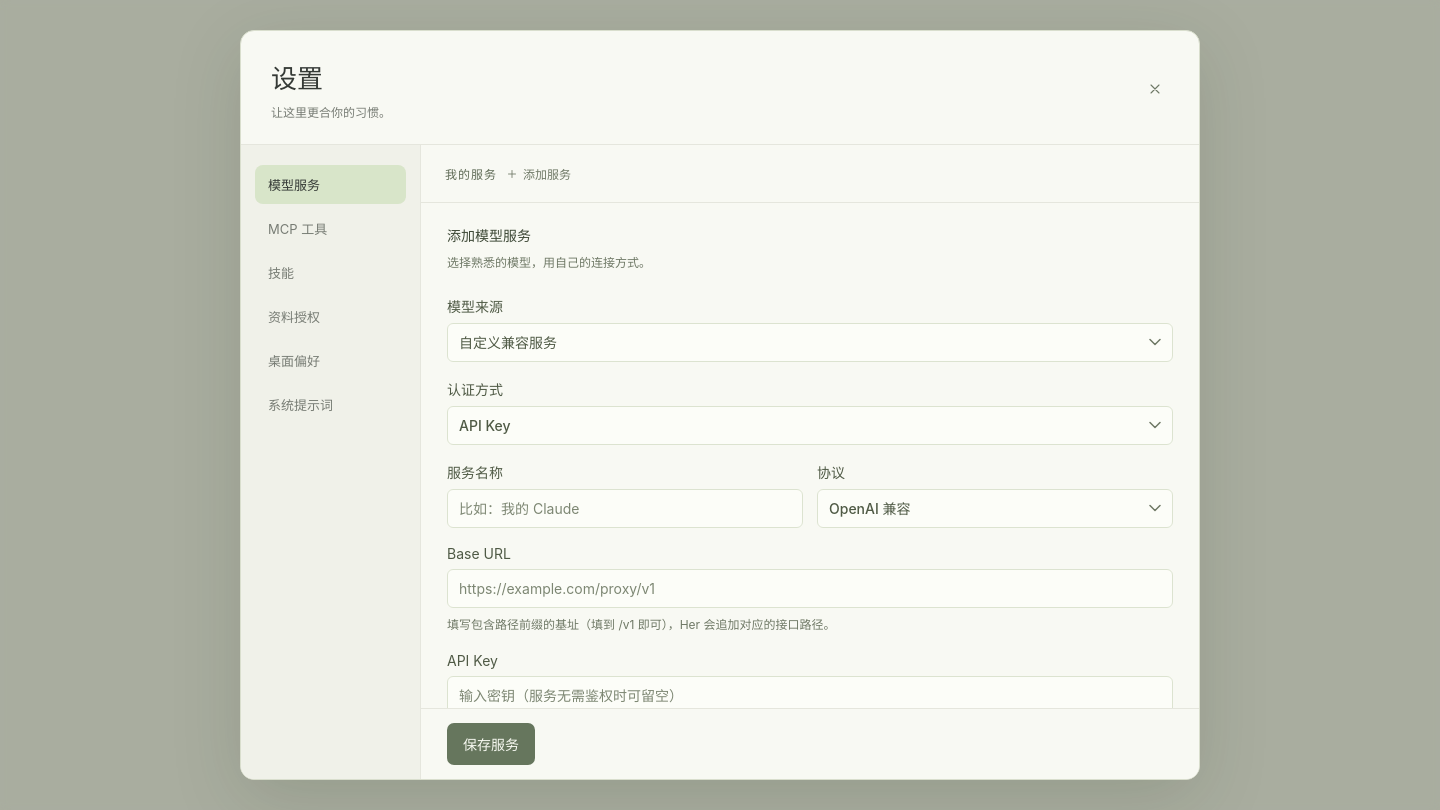
Test: shows actual request metadata separately from the editable draft
Click the tab "系统提示词" at [330, 404], box [255,385,406,424]
(page scrolled)
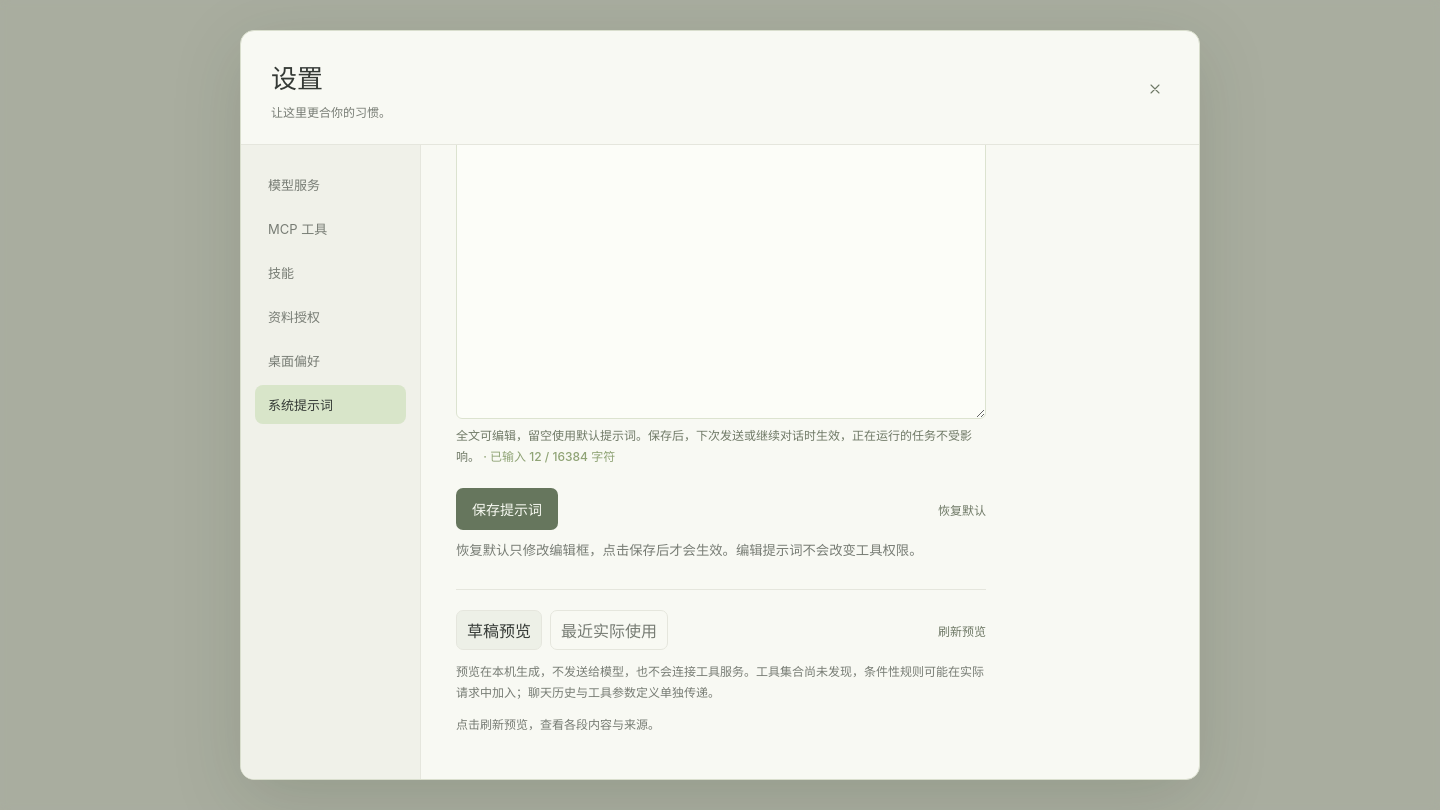
Now the text box named "系统提示词" holds "SAVED CUSTOM", box [456,145,986,419]
Click the tab "最近实际使用" at [609, 630], box [550,610,668,650]
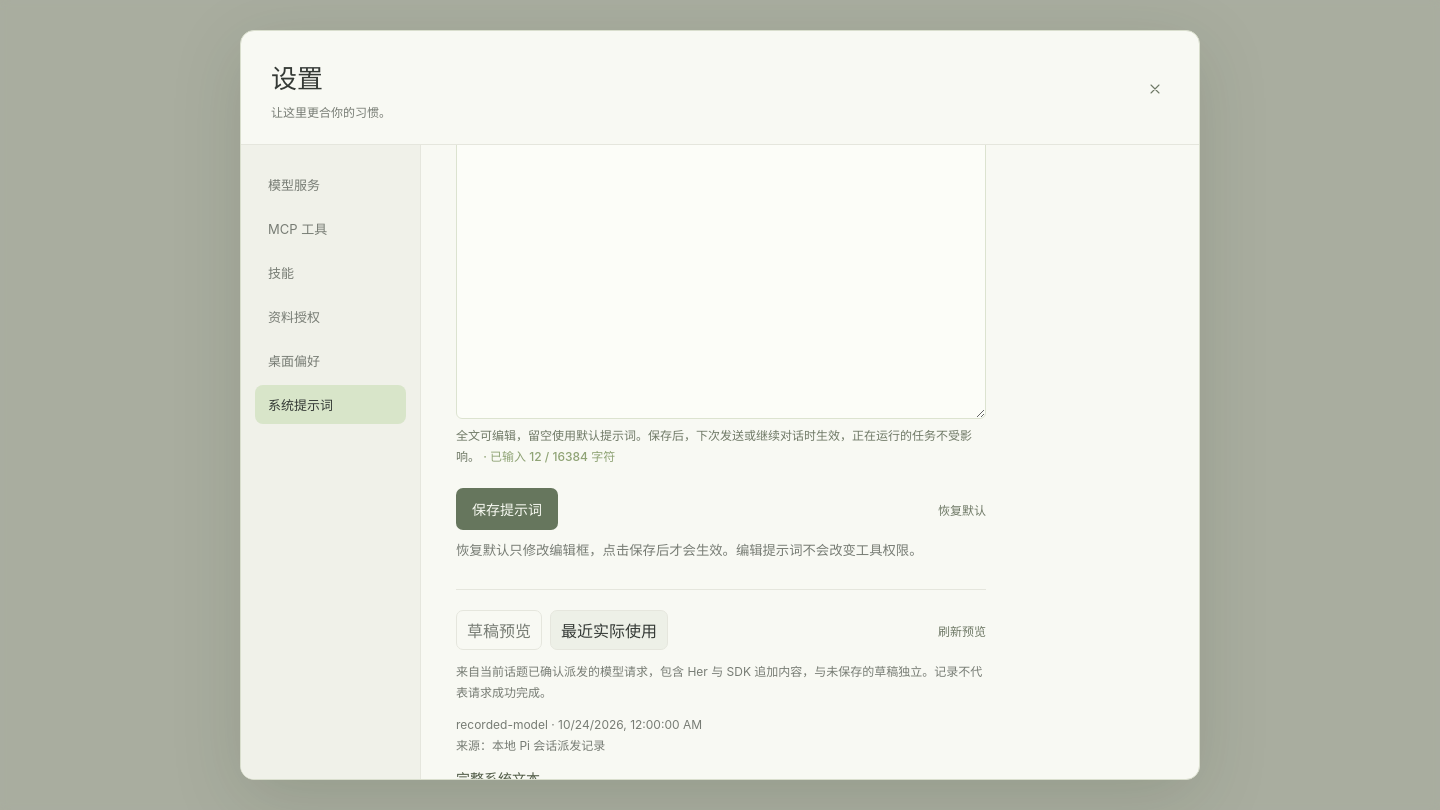
Now the text box named "系统提示词" holds "SAVED CUSTOM", box [456,145,986,419]
Now the text "recorded-model" is shown, box [456,717,548,732]
